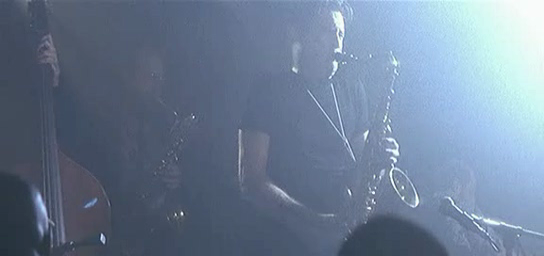face: (306, 10, 346, 78)
ms: (1, 1, 544, 256)
person: (237, 1, 401, 255)
